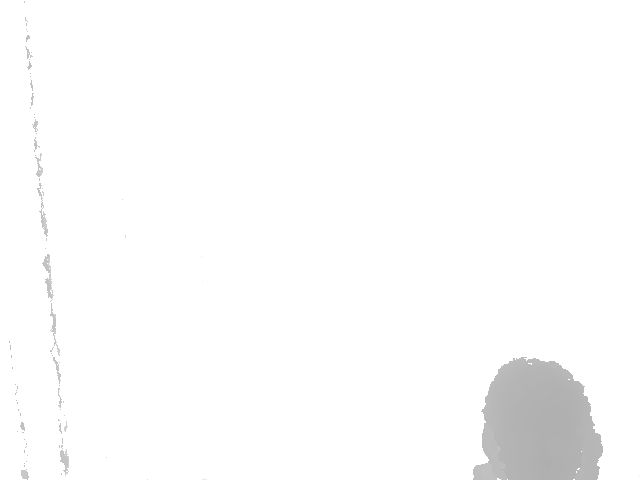head: (484, 357, 602, 480)
person: (473, 357, 605, 480)
